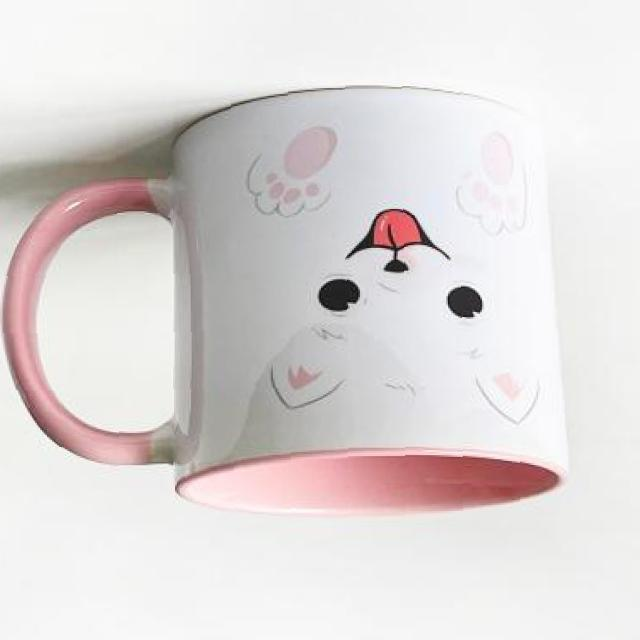cup: (0, 77, 580, 527)
